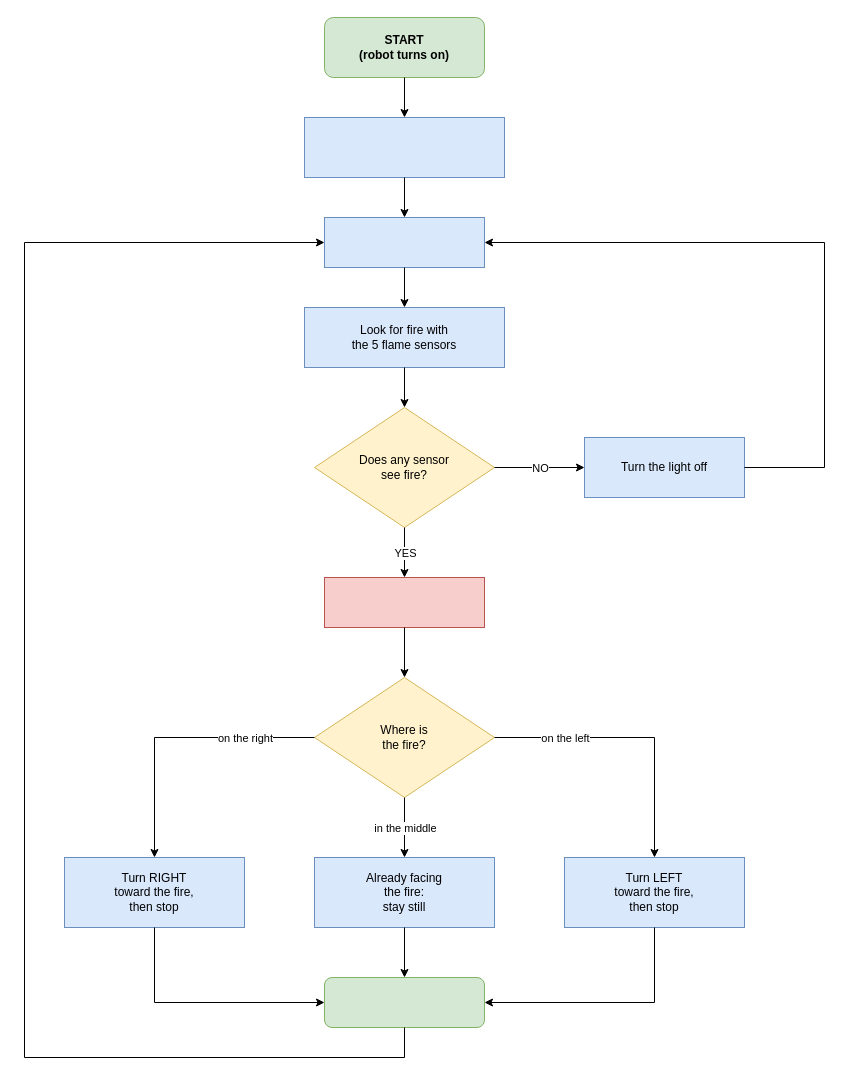
Image size: 850x1083. Some labels were removed from this diagram. Each missing label, with the centre of its shape:
Fire light on!: pixel 404 602
Get ready: flash the lights: pixel 404 147
Start over: pixel 404 1002
Wait half a second: pixel 404 242
